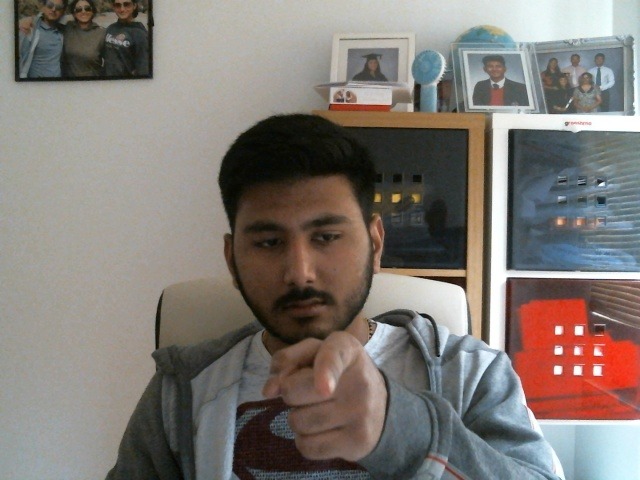you: (262, 331, 382, 461)
